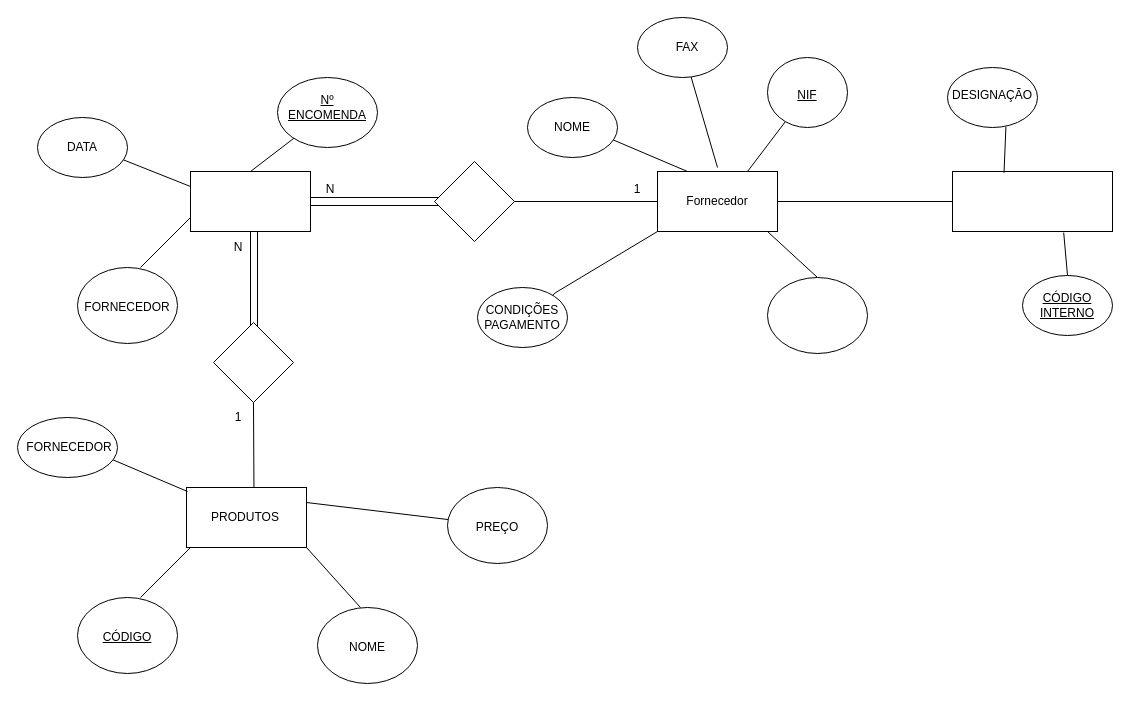
Some shapes in this 1130 by 701 pixel diagram are drawn without their labels. Here are the shapes that lost their labels. From the top down, the box of each, then its label:
(190, 170, 310, 232): Encomenda
(434, 160, 514, 242): CONTEM
(952, 170, 1112, 232): TIPO FORNECEDOR
(766, 276, 868, 354): ENDEREÇO
(212, 322, 294, 402): TEM
